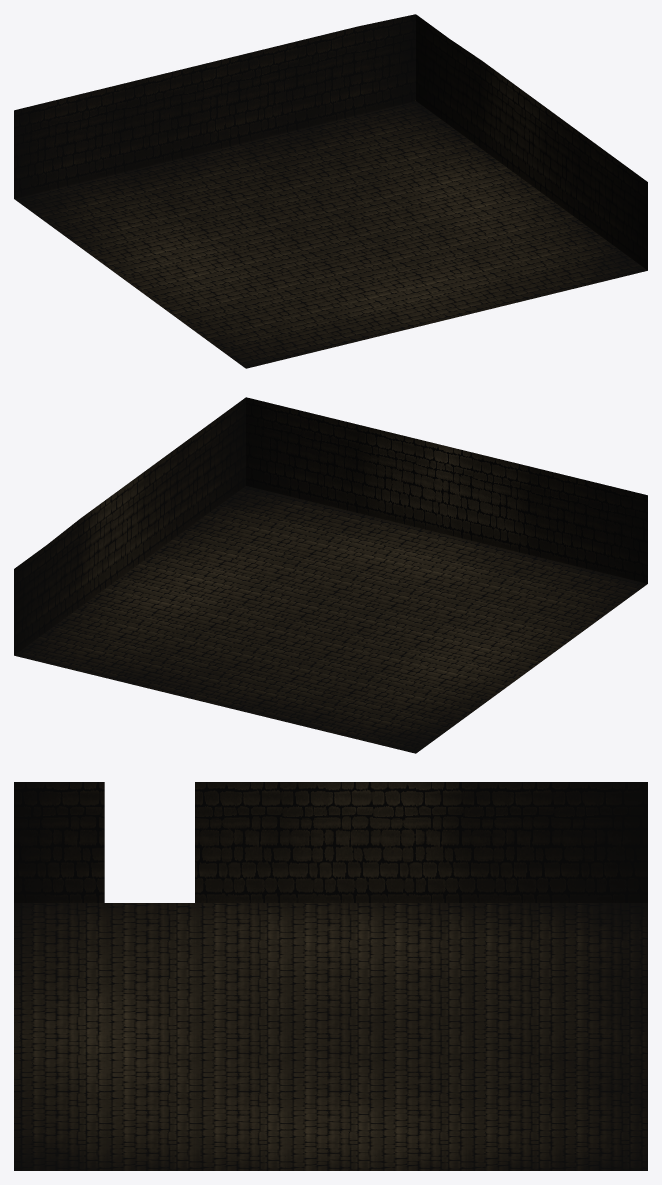
The picture shows the model from 3 angles, top to bottom: view 1: azimuth 30°, elevation 25°; view 2: azimuth 150°, elevation 25°; view 3: azimuth 270°, elevation 25°; orthographic projection. The views are drawn at different scales.
Parts seen in each view (by area): view 1: Main room; view 2: Main room; view 3: Main room.
Part boxes in pixels (x1,y1,x2,y2): Main room: (14, 14, 647, 368); Main room: (14, 397, 647, 753); Main room: (14, 782, 647, 1170).
Bounding box in the file's own units: 24 × 5.05 × 24.
Materials: 1 (1 with a texture image).
